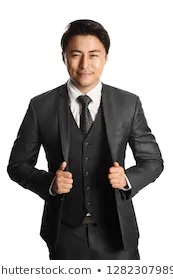F_M_suit jacket: (5, 78, 166, 253)
F_tie: (71, 90, 95, 132)
